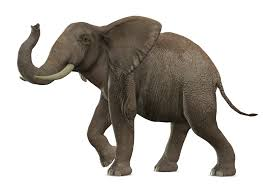Elephant: (10, 5, 259, 180)
